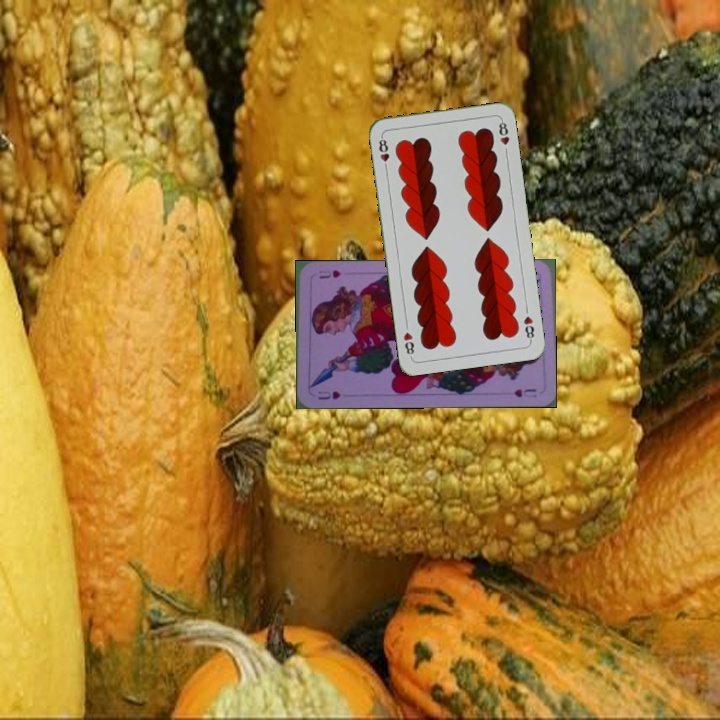H8: (375, 132, 392, 173), (520, 312, 537, 344)
HU: (314, 387, 344, 402)
